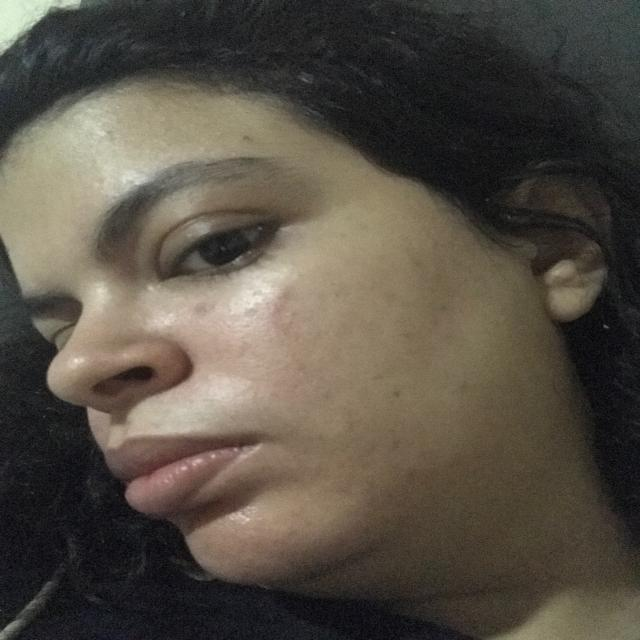Acne: (264, 288, 325, 334), (178, 296, 234, 342), (421, 270, 466, 322), (382, 372, 428, 417), (228, 124, 272, 156)
